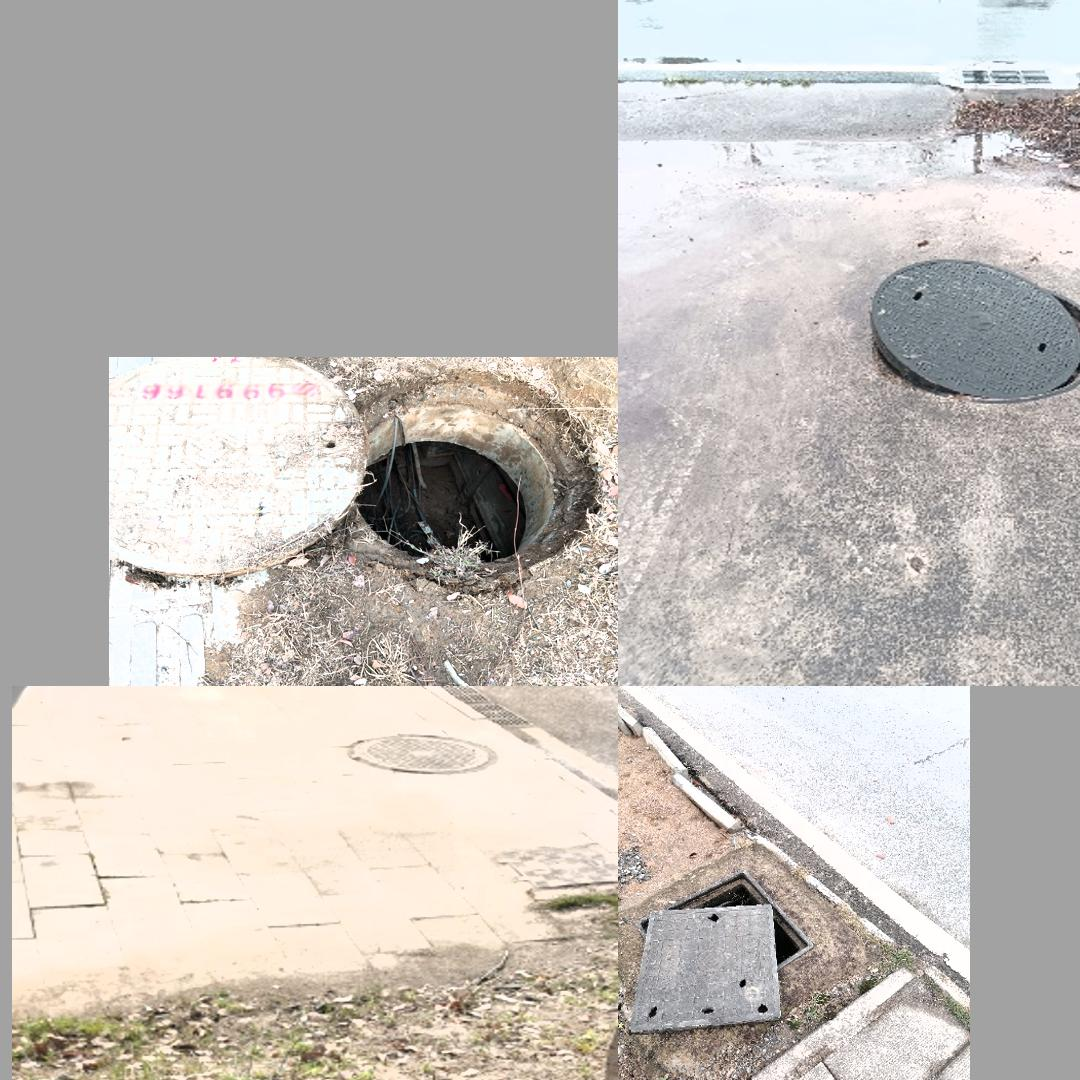uncovered: (110, 364, 594, 586), (629, 869, 815, 1035), (870, 257, 1080, 400)
